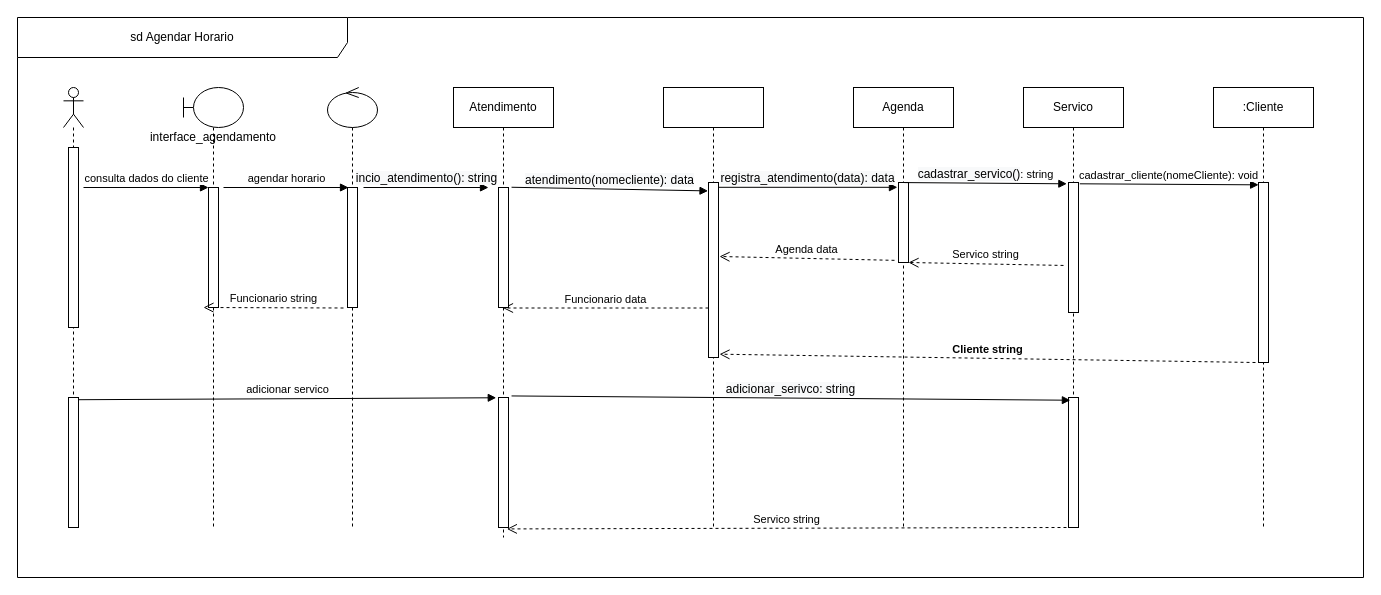
Image size: 1381x595. Some labels were removed from this diagram. Here are the shapes that lost their labels. From the top down, the box of each, then its label:
(62, 86, 84, 528): Atendente
(326, 86, 378, 528): realizar_agendamento
(662, 86, 764, 528): :Funcionario
